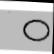no answer: (18, 14, 53, 46)
